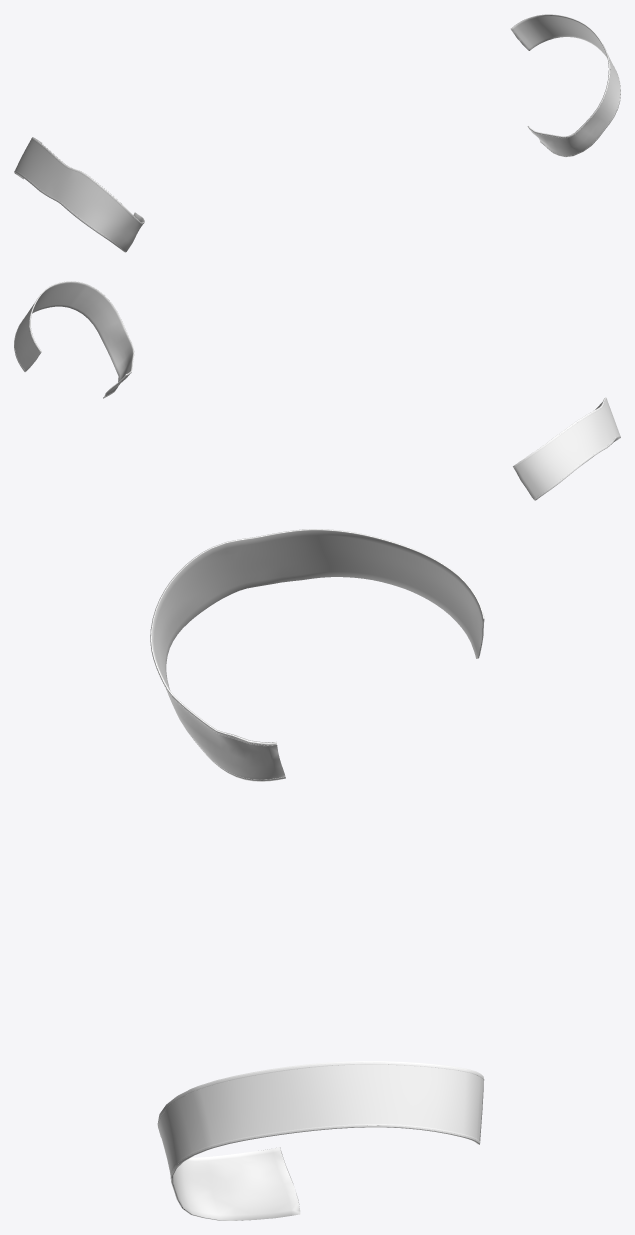
File: Jac_Flic_Lim.glb
3 views of the same model, one above another, from view 1: azimuth 30°, elevation 25°; view 2: azimuth 150°, elevation 25°; view 3: azimuth 270°, elevation 25° (orthographic). The views are drawn at different scales.
Visible parts, largest first — view 1: Jac_Flic_Lim.001, Jac_Rope_Flic_Lim.001; view 2: Jac_Flic_Lim.001, Jac_Rope_Flic_Lim.001; view 3: Jac_Flic_Lim.001, Jac_Rope_Flic_Lim.001.
Part boxes in pixels (x1=…): Jac_Flic_Lim.001: x1=14, y1=14, x2=620, y2=252; Jac_Rope_Flic_Lim.001: x1=14, y1=43, x2=620, y2=251; Jac_Flic_Lim.001: x1=14, y1=281, x2=620, y2=500; Jac_Rope_Flic_Lim.001: x1=14, y1=294, x2=620, y2=499; Jac_Flic_Lim.001: x1=150, y1=529, x2=484, y2=1220; Jac_Rope_Flic_Lim.001: x1=152, y1=613, x2=484, y2=1207.
Size of the model in its own units: 1.21 by 0.2207 by 0.3088.
2 materials, 2 textured.
